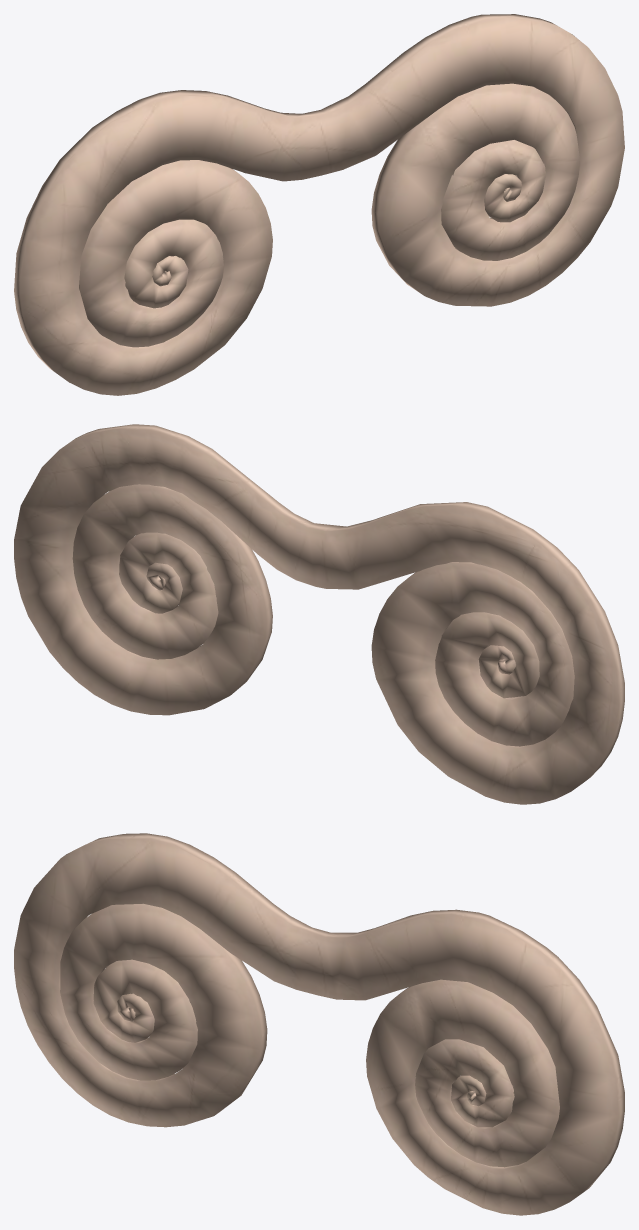
Rendered from tairona_-_pechera_de_oro.lod2.glb.
The picture shows the model from 3 angles, top to bottom: view 1: azimuth 30°, elevation 25°; view 2: azimuth 150°, elevation 25°; view 3: azimuth 330°, elevation 25°; orthographic projection.
Visible parts, largest first — view 1: Plane; view 2: Plane; view 3: Plane.
Part boxes in pixels (x1=…): Plane: x1=14, y1=14, x2=624, y2=395; Plane: x1=14, y1=424, x2=624, y2=804; Plane: x1=14, y1=833, x2=624, y2=1215.
Size of the model in its own units: 5.69 by 2.59 by 0.3847.
Materials: 1 (1 with a texture image).
